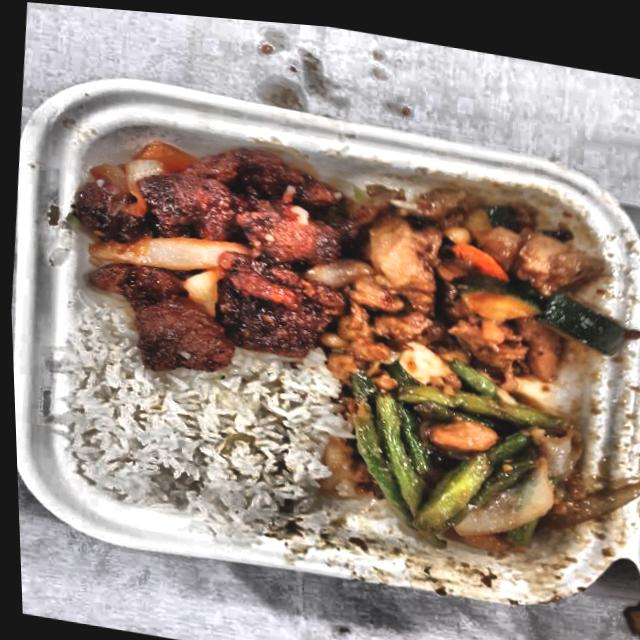Food: (59, 108, 365, 387), (328, 149, 619, 394), (327, 336, 608, 564), (57, 341, 335, 542)
